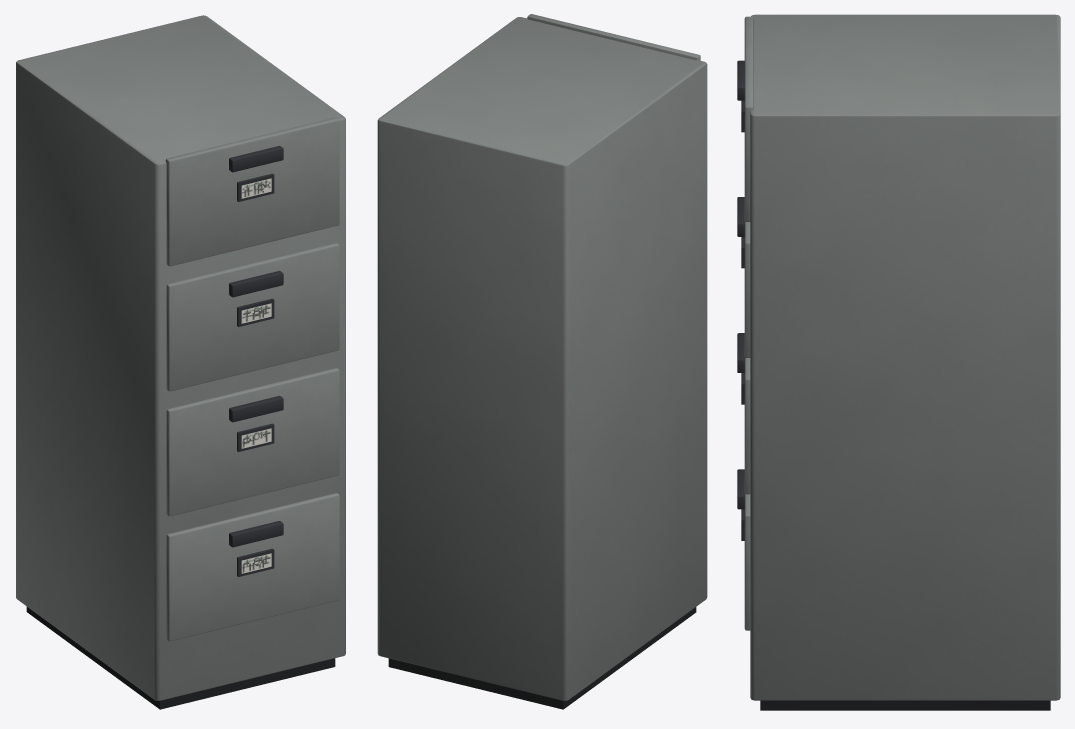
Rendered from filing_cabinet.glb.
The picture shows the model from 3 angles, left to right: view 1: azimuth 30°, elevation 25°; view 2: azimuth 150°, elevation 25°; view 3: azimuth 270°, elevation 25°; orthographic projection. The views are drawn at different scales.
Visible parts, largest first — view 1: Body, Drawer_04, Drawer_01, Drawer_02, Drawer_03, Plinth, Pull_04, Pull_01, Pull_02, Pull_03; view 2: Body, Plinth, Drawer_04; view 3: Body, Plinth, Drawer_04, Drawer_01, Drawer_02, Drawer_03.
Boxes of the visible parts, x1,y1,x2,y2 form: Body: (16,15,345,700); Drawer_04: (165,117,339,266); Drawer_01: (166,493,339,641); Drawer_02: (166,368,339,516); Drawer_03: (166,243,339,391); Plinth: (26,606,335,709); Pull_04: (229,146,283,172); Pull_01: (229,521,283,547); Pull_02: (229,396,283,422); Pull_03: (229,271,283,297); Body: (377,17,707,700); Plinth: (388,607,696,709); Drawer_04: (527,14,700,60); Body: (750,14,1060,700); Plinth: (760,700,1050,710); Drawer_04: (744,16,753,221); Drawer_01: (744,493,750,630); Drawer_02: (744,357,750,494); Drawer_03: (744,220,750,357).
Bounding box in the file's own units: 0.48 × 1.33 × 0.646.
Materials: 8 (7 with a texture image).
